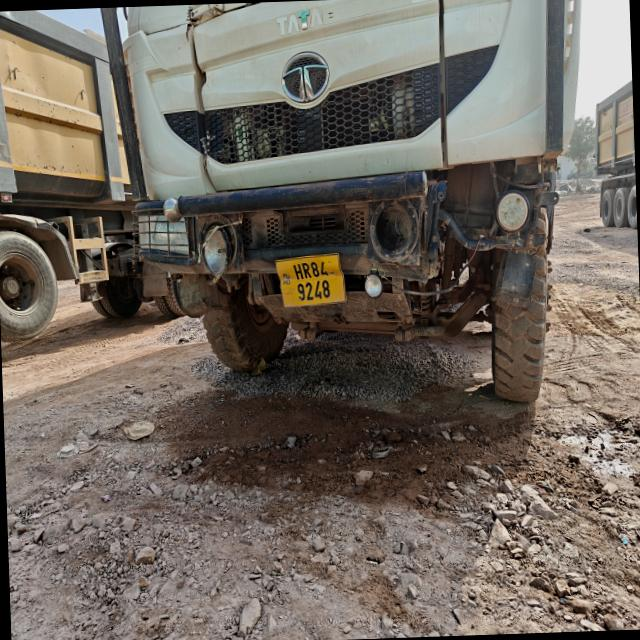license_plate: (276, 254, 346, 307)
